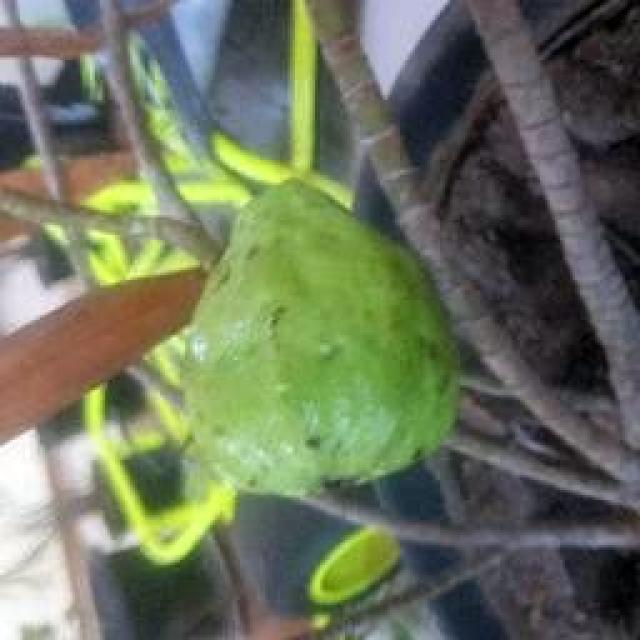Good_Guava: (180, 182, 460, 498)
